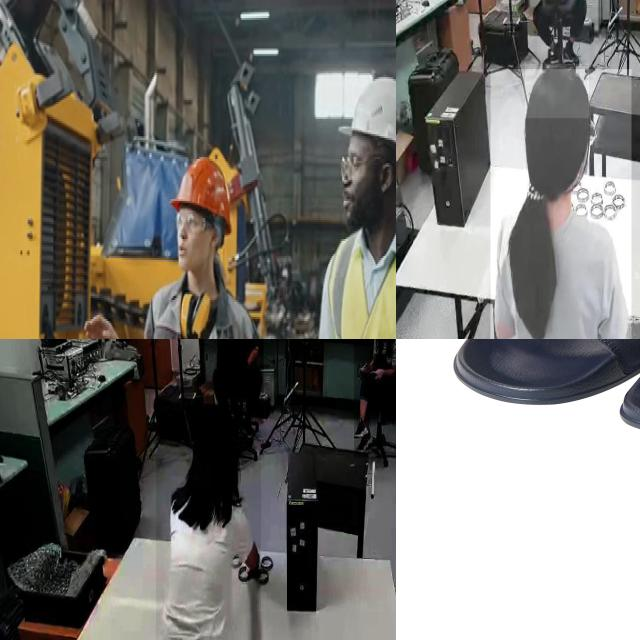Ear-protection: (176, 287, 212, 339)
Sandals: (440, 339, 640, 453)
glasses: (336, 146, 377, 181), (170, 208, 214, 232)
hand_noglove: (357, 364, 371, 378), (374, 366, 384, 380)
head_helmet: (341, 71, 396, 154), (168, 152, 235, 214)
head_nohelmet: (525, 64, 589, 119), (194, 404, 234, 434)
person: (490, 69, 631, 339), (93, 145, 276, 339), (287, 61, 396, 339), (156, 407, 261, 640), (354, 339, 396, 458), (218, 339, 264, 425), (537, 0, 590, 64)
shoes: (562, 36, 580, 68), (356, 430, 373, 453), (353, 416, 368, 439)
vest: (326, 218, 396, 339)
